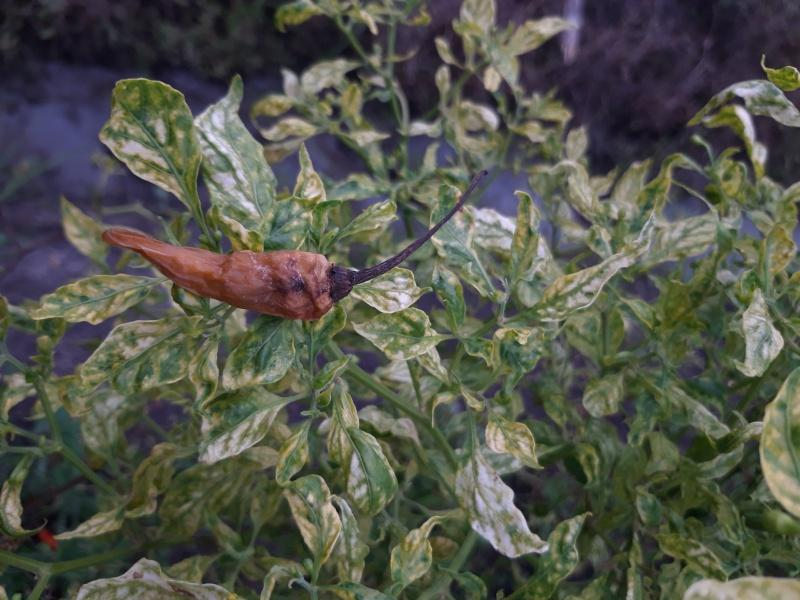antraknosa: (96, 227, 359, 321)
